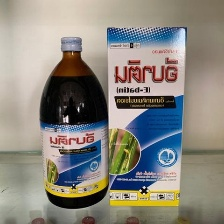carton: (105, 21, 192, 209)
insecticide: (36, 34, 111, 211)
